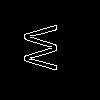W: (24, 24, 65, 71)
